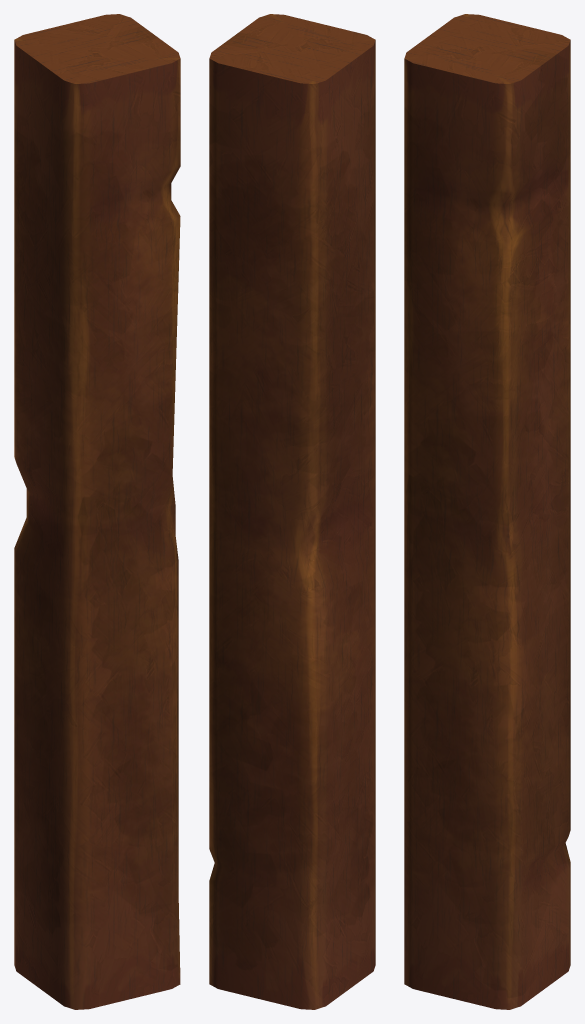
Rendered from SM_BigWall_Beam.glb.
3 renders of one model, left to right at view 1: azimuth 30°, elevation 25°; view 2: azimuth 150°, elevation 25°; view 3: azimuth 330°, elevation 25°, orthographic.
Parts seen in each view (by area): view 1: SM_BigWall_Beam_LOD0; view 2: SM_BigWall_Beam_LOD0; view 3: SM_BigWall_Beam_LOD0.
Boxes of the visible parts, box(x1,y1,x2,y2) form: SM_BigWall_Beam_LOD0: box(14, 14, 180, 1009); SM_BigWall_Beam_LOD0: box(209, 14, 375, 1009); SM_BigWall_Beam_LOD0: box(404, 14, 570, 1009).
Size of the model in its own units: 0.2591 by 2 by 0.2591.
1 material, 1 textured.
